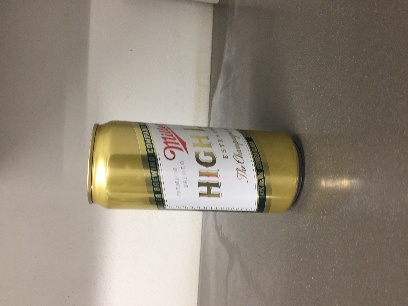ML: (64, 85, 219, 156)
